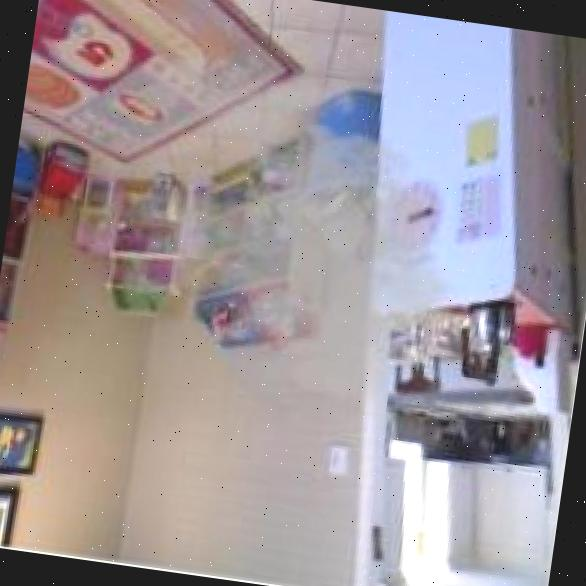smoke: (47, 29, 510, 451)
